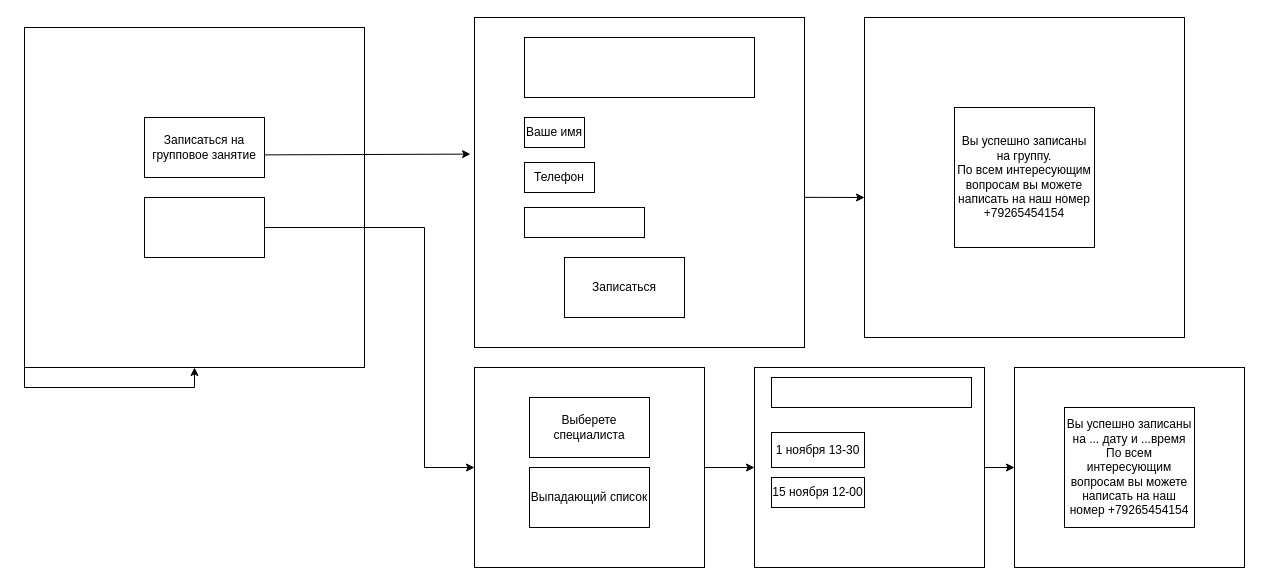
Image size: 1262x585. Some labels were removed from this diagram. Here are the shapes that lost their labels. From the top down, the centre of each, then its label:
At point 639,67: "Выбор из выпадающего меняю".
At point 204,227: "Записаться на консультацию".
At point 584,222: "Возраст ребенка".
At point 871,392: "Выберите доступную дату и время".
